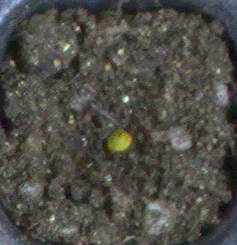chilli seed: (106, 126, 131, 151)
